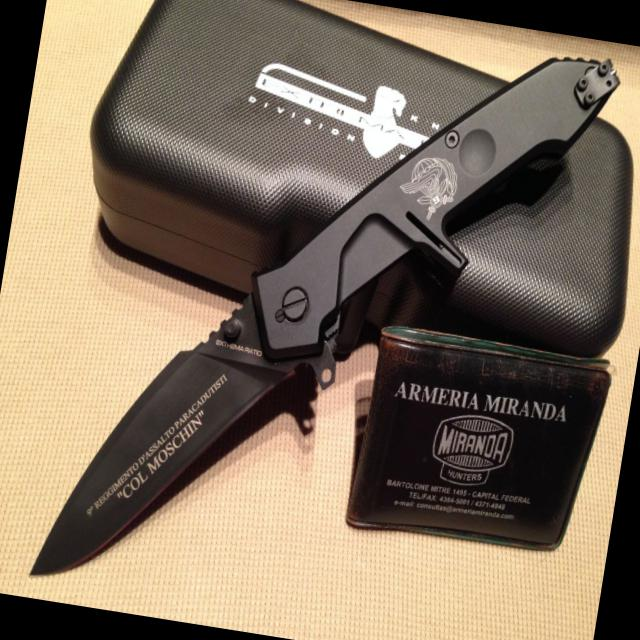knife: (22, 244, 318, 622)
